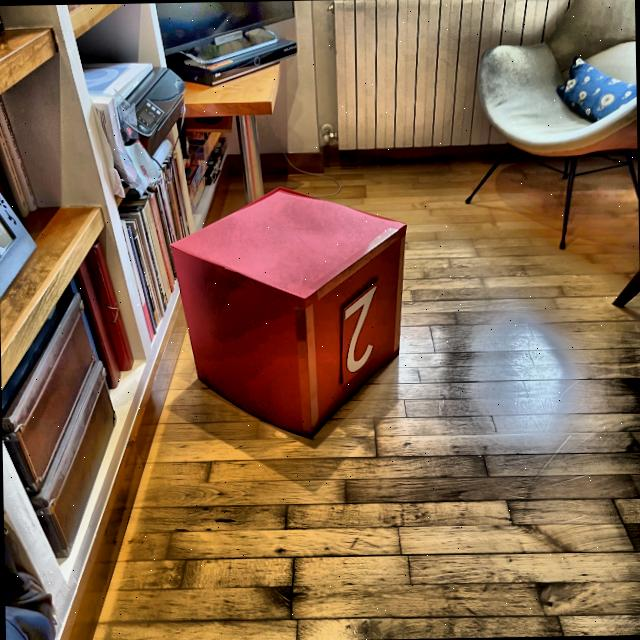red box: (167, 185, 410, 443)
two: (342, 284, 378, 374)
